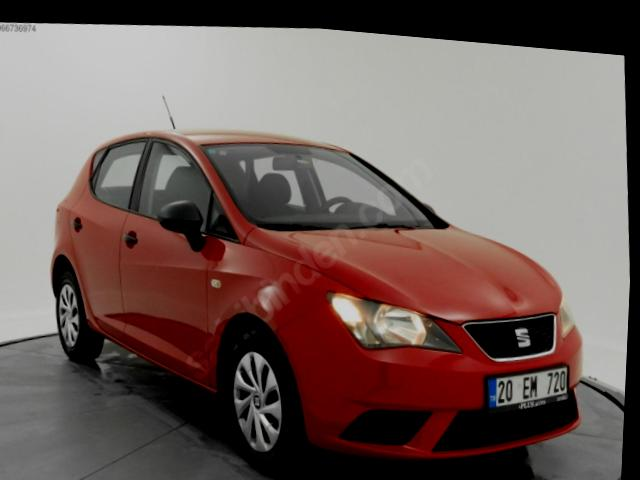plaka: (487, 364, 567, 413)
